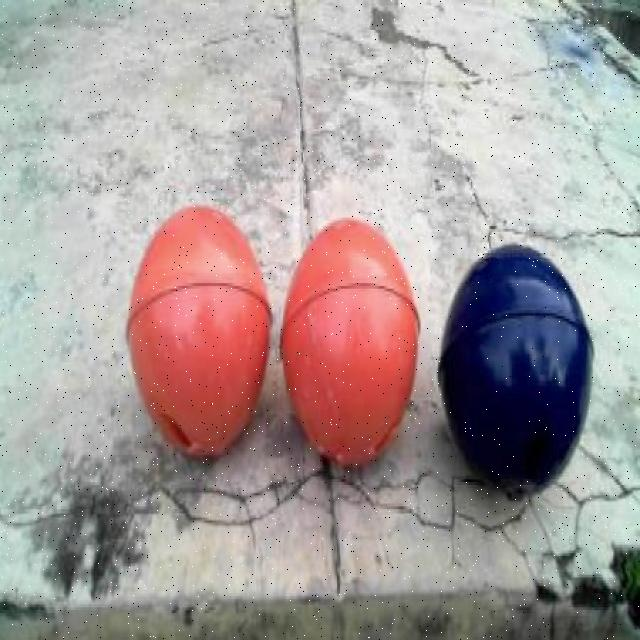buoy: (431, 225, 600, 513), (116, 189, 278, 472), (274, 200, 424, 478)
